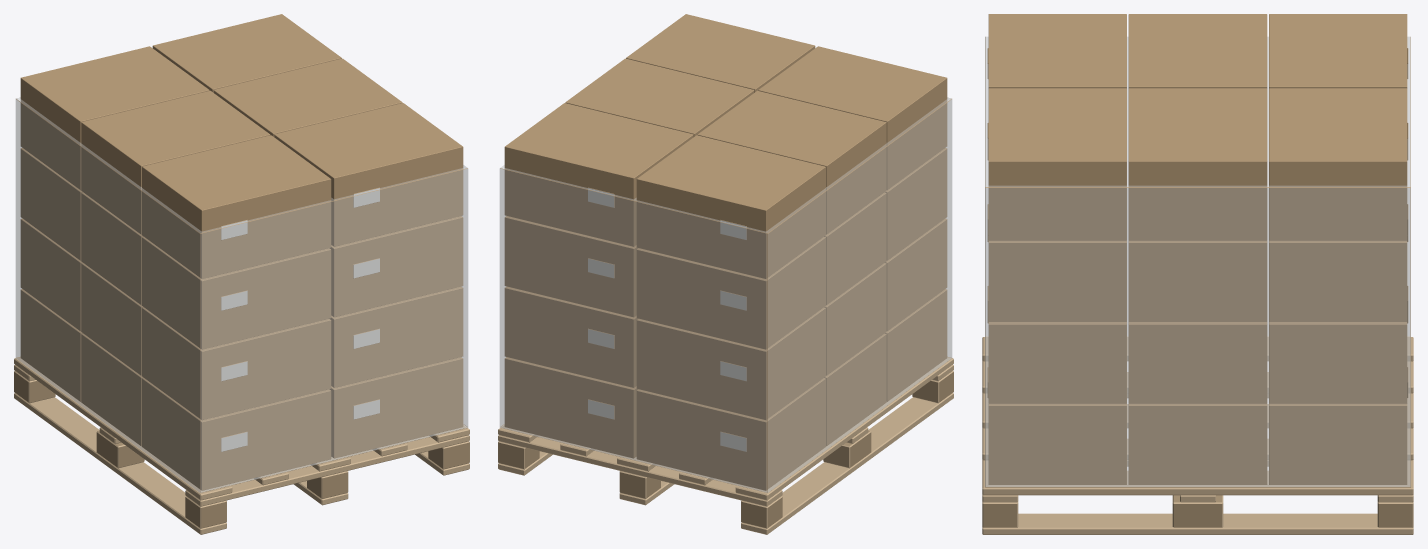
Rendered from stackercrane_pallet_v0.glb.
3 renders of one model, left to right at view 1: azimuth 30°, elevation 25°; view 2: azimuth 150°, elevation 25°; view 3: azimuth 270°, elevation 25°, orthographic. The views are drawn at different scales.
Parts seen in each view (by area): view 1: Load_v0, Deck_v0; view 2: Load_v0, Deck_v0; view 3: Load_v0, Deck_v0.
Boxes of the visible parts, <box> form: Load_v0: <box>15,14,468,492</box>; Deck_v0: <box>14,357,469,534</box>; Load_v0: <box>499,14,952,492</box>; Deck_v0: <box>498,357,953,534</box>; Load_v0: <box>985,14,1410,487</box>; Deck_v0: <box>982,337,1413,534</box>.
Size of the model in its own units: 1 by 1.14 by 1.2.
